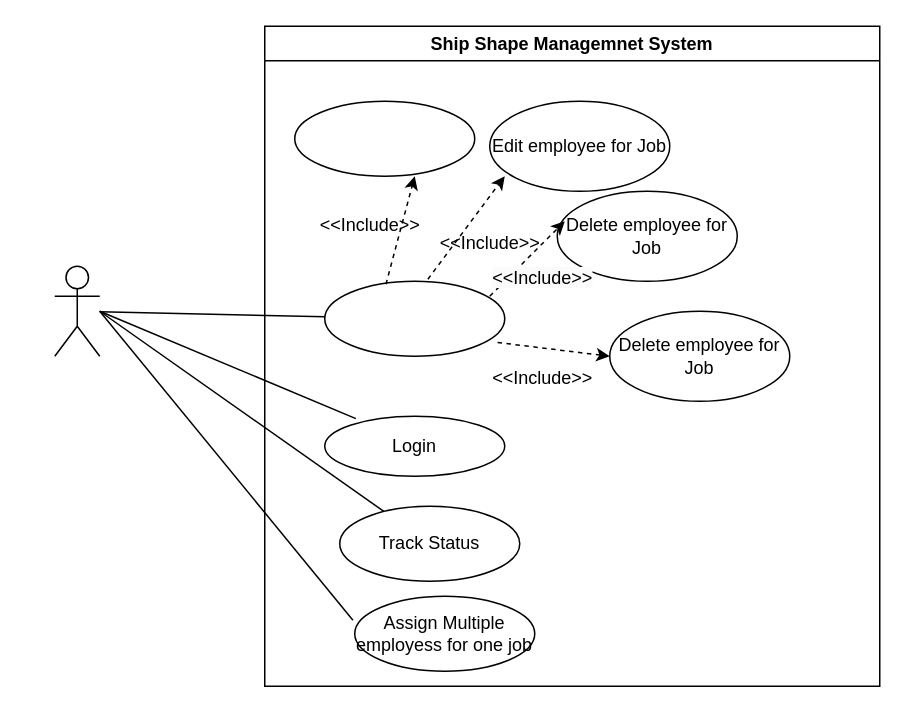
The diagram is 906 pixels wide and 713 high, and some of its shapes have lost their labels. Each missing label, with the centre of its shape:
"Add employee for Job" goes at (x=384, y=138).
"Adminstrator" goes at (x=76, y=310).
"Manage Job Allocation" goes at (x=414, y=318).
